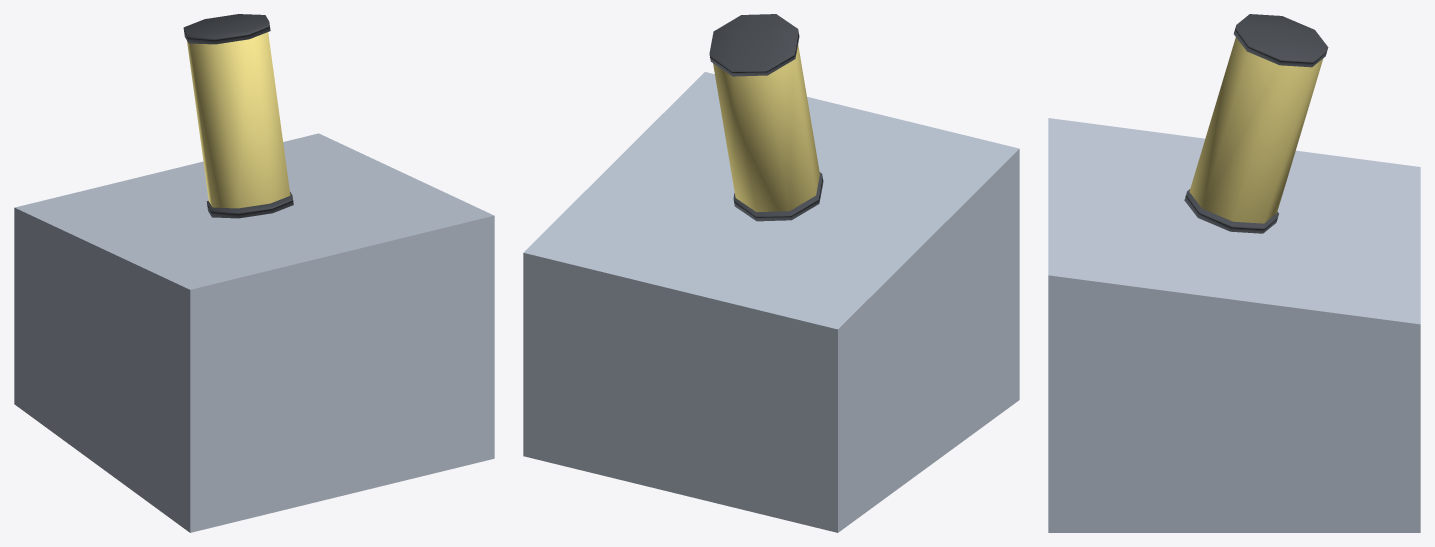
File: BoxGene_Yellow.fbx
The picture shows the model from 3 angles, left to right: view 1: azimuth 30°, elevation 25°; view 2: azimuth 150°, elevation 25°; view 3: azimuth 270°, elevation 25°; orthographic projection. The views are drawn at different scales.
Parts seen in each view (by area): view 1: pCube4, pCylinder1, pCylinder2, pCylinder3; view 2: pCube4, pCylinder1, pCylinder2, pCylinder3; view 3: pCube4, pCylinder1, pCylinder2, pCylinder3.
Part boxes in pixels (x1,y1,x2,y2): pCube4: (14,133,494,532); pCylinder1: (187,32,290,208); pCylinder2: (183,14,270,44); pCylinder3: (206,192,293,218); pCube4: (523,72,1019,532); pCylinder1: (713,44,819,212); pCylinder2: (709,14,799,76); pCylinder3: (733,172,823,221); pCube4: (1048,118,1420,532); pCylinder1: (1189,37,1323,223); pCylinder2: (1233,14,1328,67); pCylinder3: (1184,189,1278,233).
Size of the model in its own units: 4.54 by 5.73 by 4.54.
